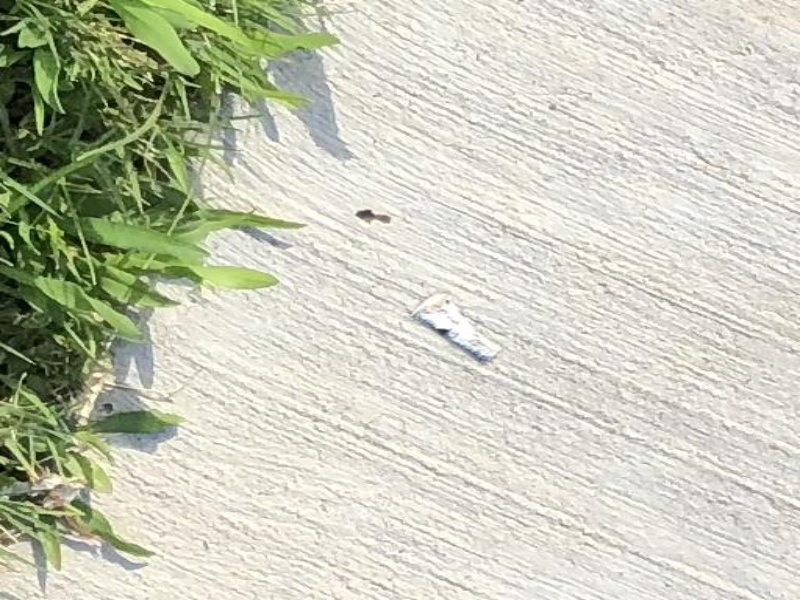cig: (416, 293, 511, 367)
